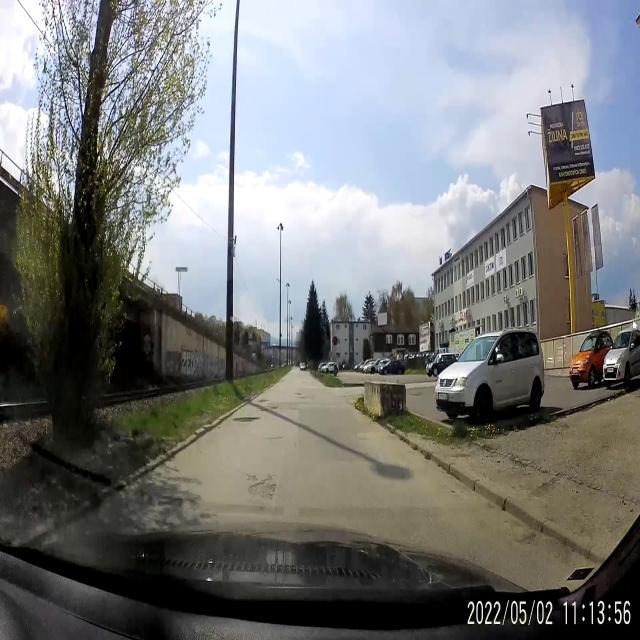Pothole: (246, 482, 280, 503), (156, 493, 184, 512), (516, 528, 538, 552), (232, 415, 262, 424), (262, 471, 276, 482), (295, 390, 310, 400), (268, 403, 280, 413), (244, 472, 258, 480), (258, 396, 268, 404)
